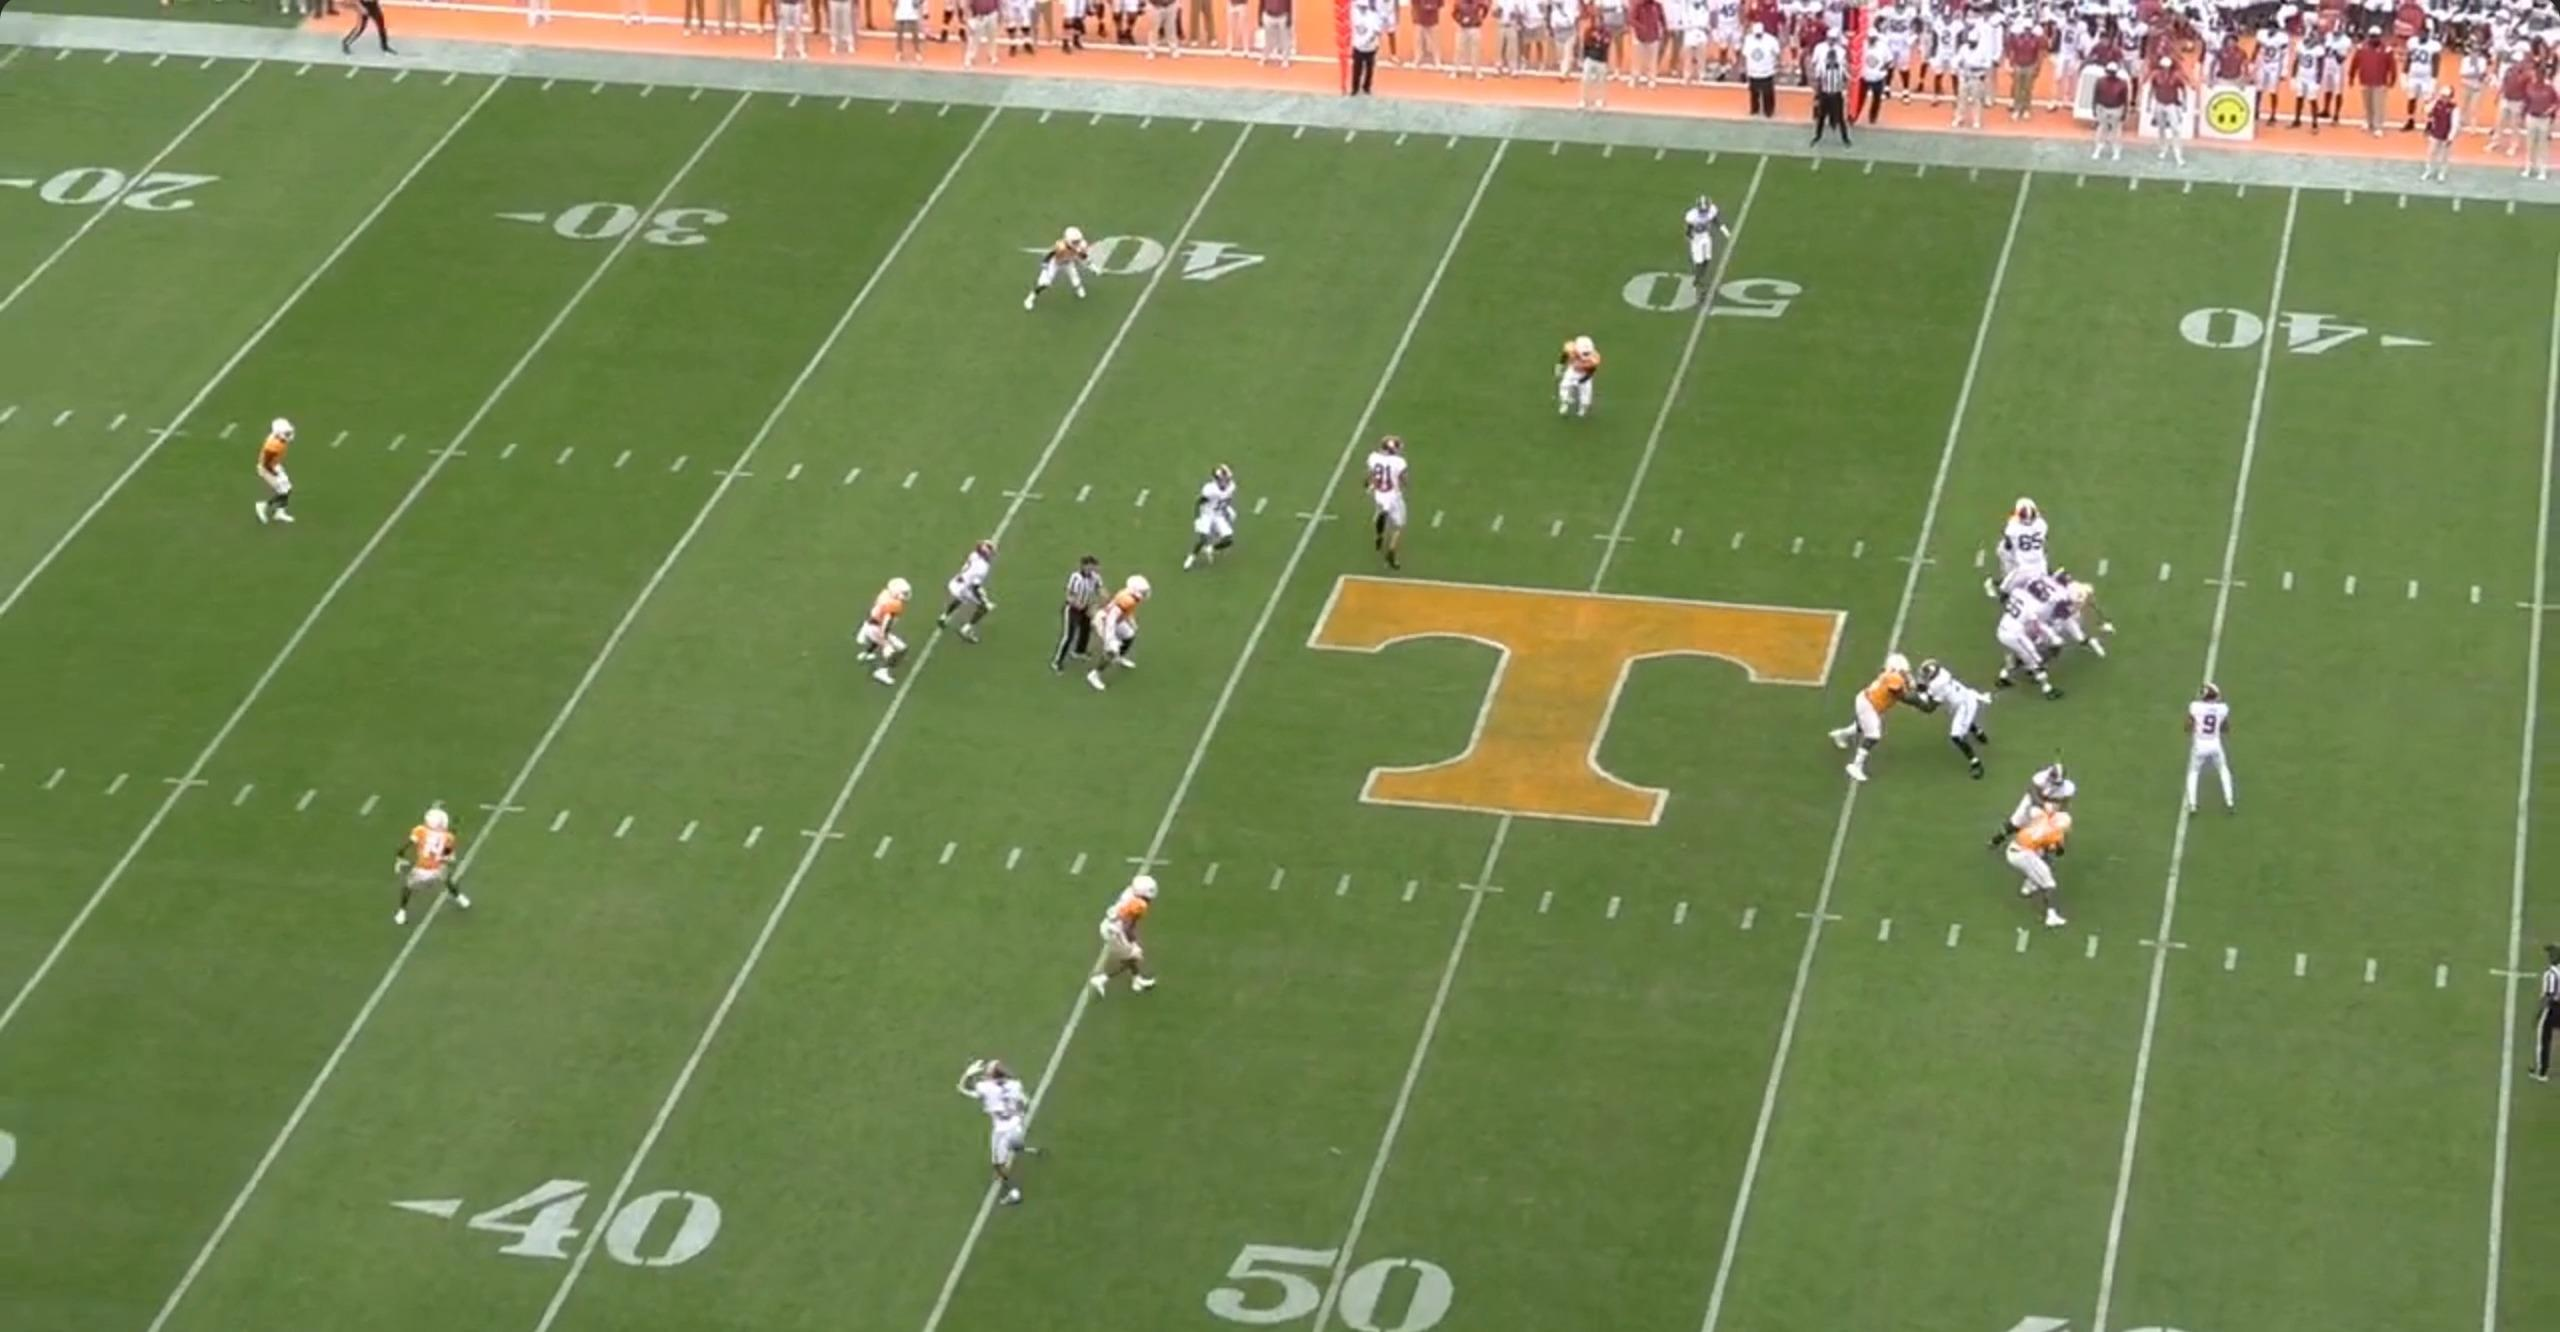player: (1834, 651, 1934, 787), (970, 1049, 1047, 1210), (379, 796, 466, 927), (1911, 657, 2002, 780), (1084, 869, 1162, 1004), (2008, 798, 2082, 939), (2172, 679, 2246, 819), (1988, 574, 2063, 698), (1355, 428, 1418, 573), (1986, 765, 2081, 861), (1080, 573, 1151, 698), (851, 569, 919, 689), (1023, 223, 1102, 317), (1176, 465, 1240, 581), (933, 542, 1000, 651), (253, 416, 306, 538), (1676, 195, 1733, 307), (1984, 496, 2041, 595), (1552, 332, 1607, 425), (1998, 506, 2048, 605), (2063, 581, 2115, 657), (2040, 566, 2074, 654)
ref: (1053, 553, 1113, 695), (1793, 44, 1853, 160), (339, 4, 411, 67)
